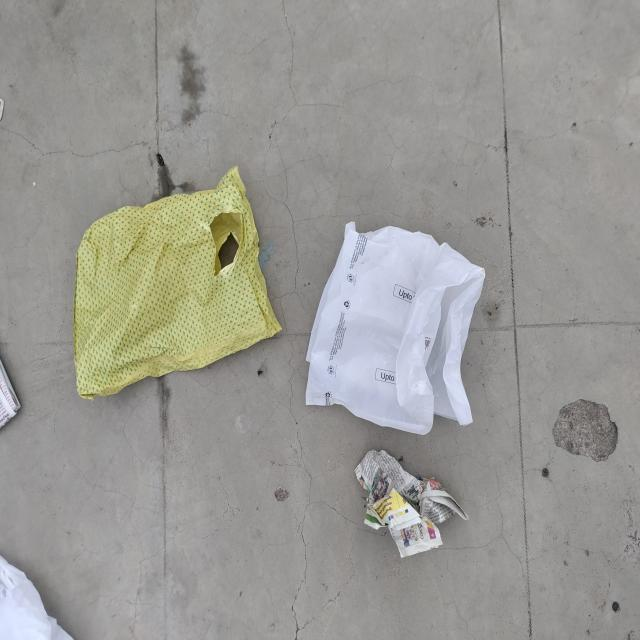dry: (62, 175, 290, 413), (301, 214, 503, 436), (348, 442, 474, 567)
